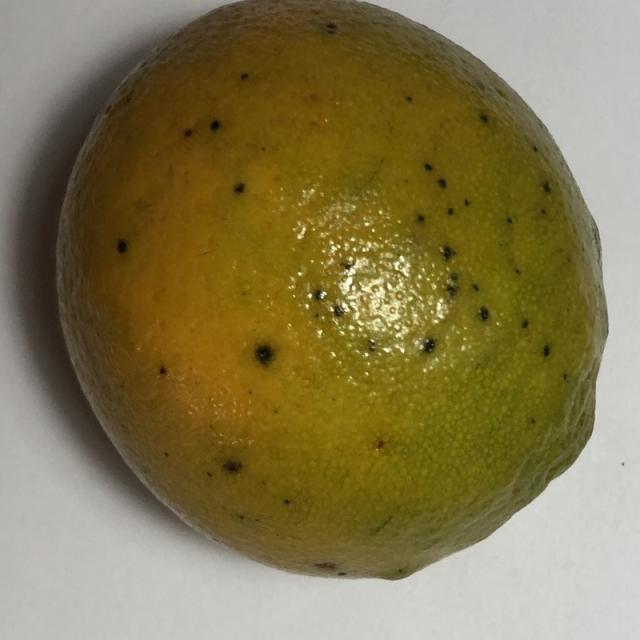blackspot: (28, 2, 620, 592)
